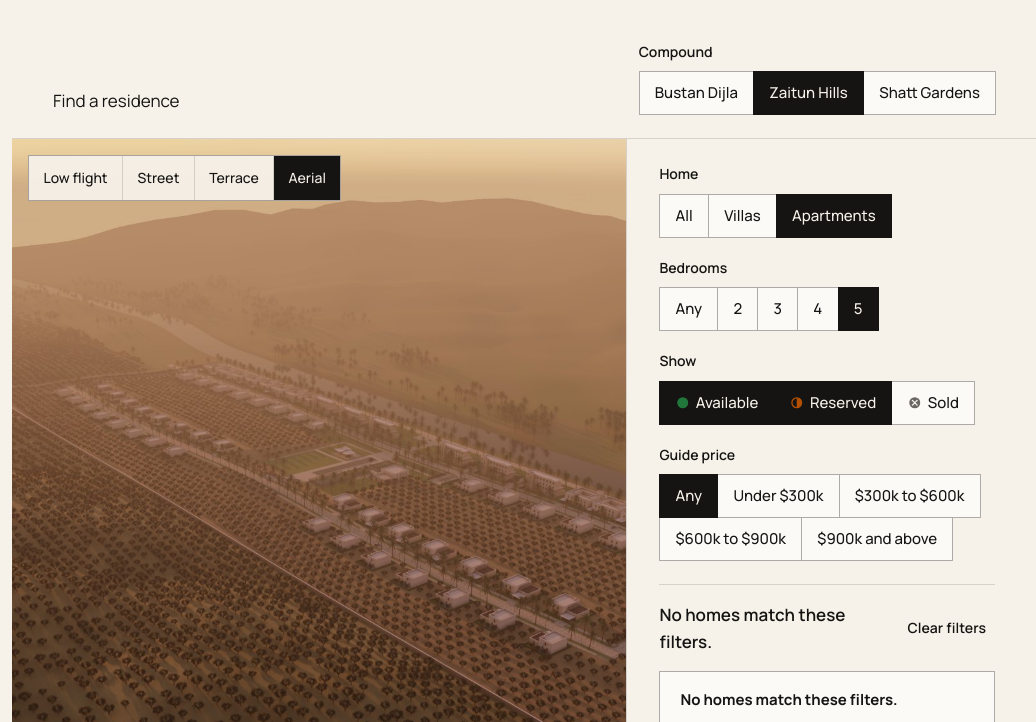
Test: Finder › shows an empty state with a way out, and clears filters
expect the text "No homes match these filters." is shown: met, box 659,603 -> 846,653
Step 1. Click the button "Clear filters" → {"x": 947, "y": 628}, box 898,608 -> 995,648
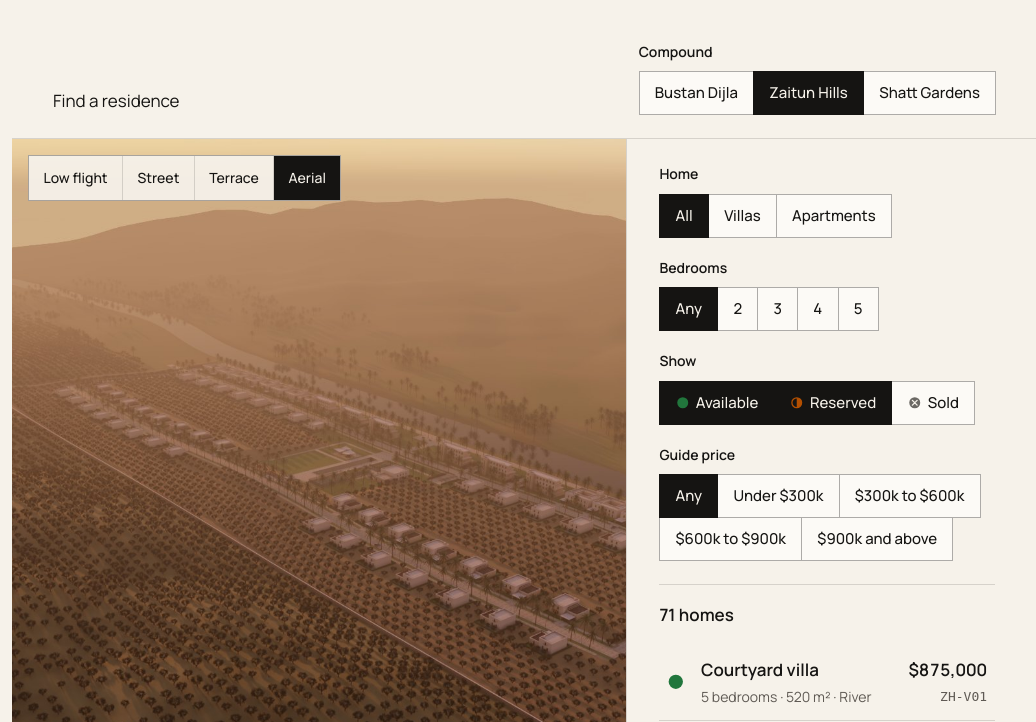
expect the message shows "homes": met, box 659,603 -> 734,626
